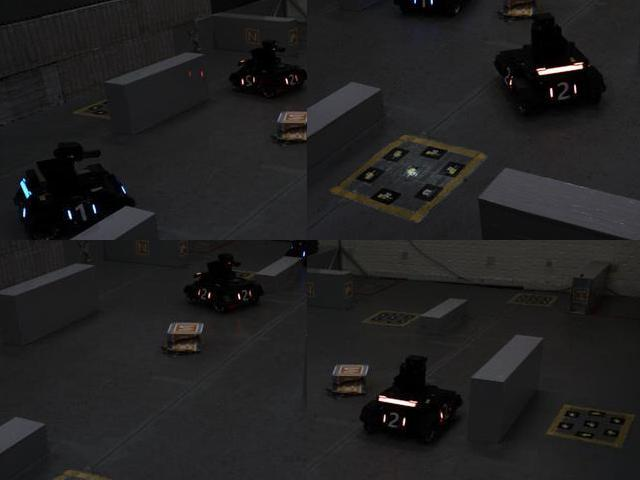armor: (62, 194, 100, 227), (544, 80, 582, 106), (378, 408, 411, 433), (228, 283, 259, 306), (431, 404, 455, 427), (498, 61, 515, 92), (194, 282, 213, 305), (282, 70, 302, 91), (240, 70, 260, 90), (409, 0, 438, 13), (297, 246, 306, 264)
